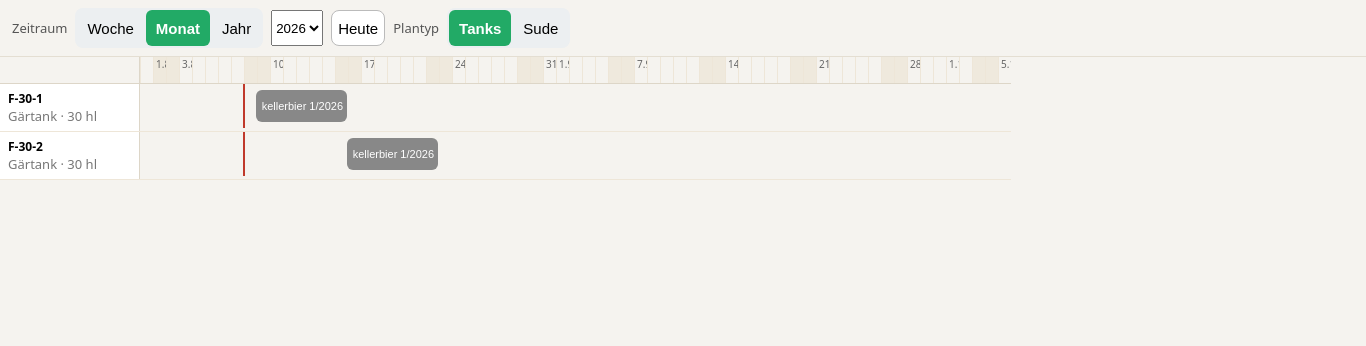
Test: Zeitplan (Sudsicht) › Umschalter: Sudsicht zeigt eine Zeile je Charge mit Tanknamen als Blöcke
Click the button "Sude". click: (541, 28)
box: [513,10,568,46]
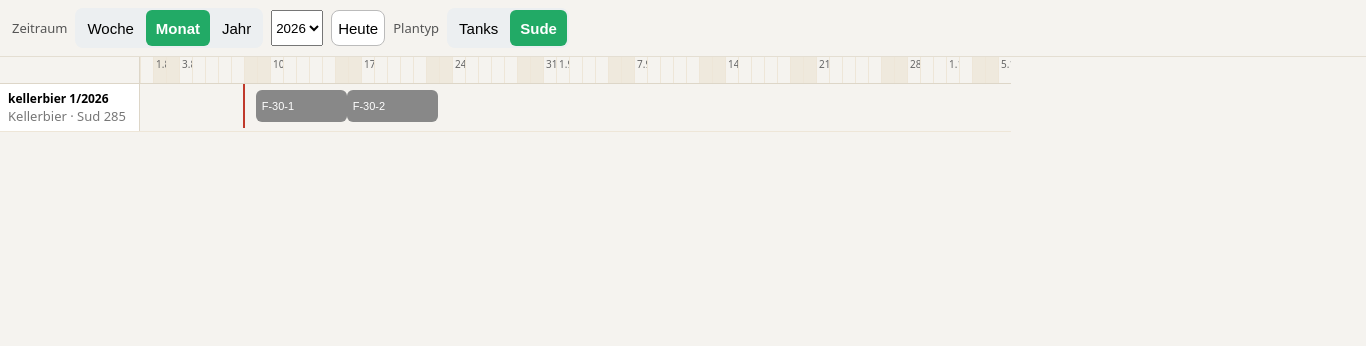
Check: the text "kellerbier 1/2026" is shown, box [8,90,109,107]
Check: the button "F-30-1" is shown, box [256,90,347,122]
Check: the button "F-30-2" is shown
Auswahl + Aktionsleiste funktionieren wie in der Tanksicht.
Click the button "F-30-2". click: (392, 106)
box: [347,90,438,122]
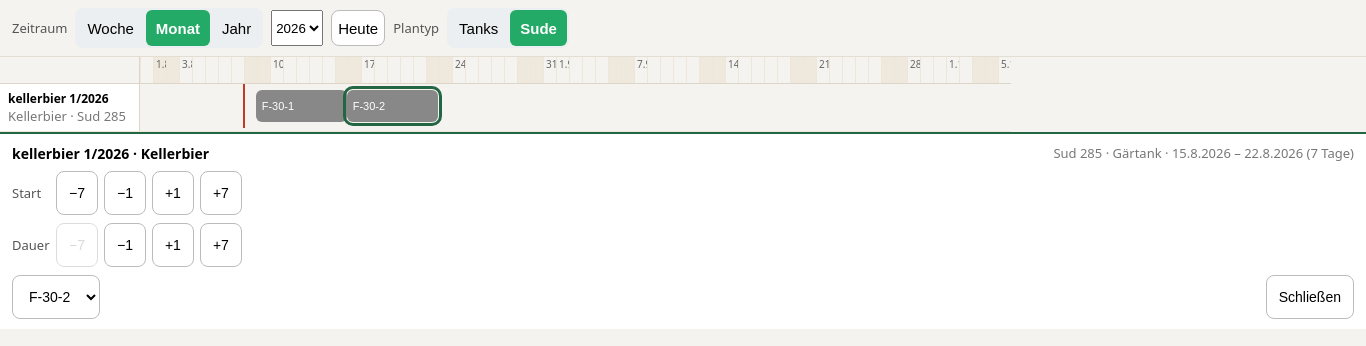
Check: the element named "Sud verschieben" is shown, box [0,132,1365,329]
